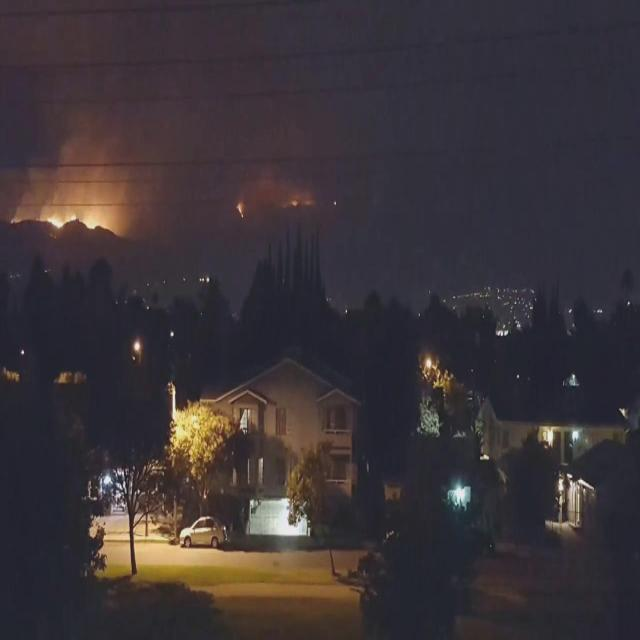Fire: (46, 212, 114, 235), (236, 201, 244, 217), (290, 200, 298, 208)
